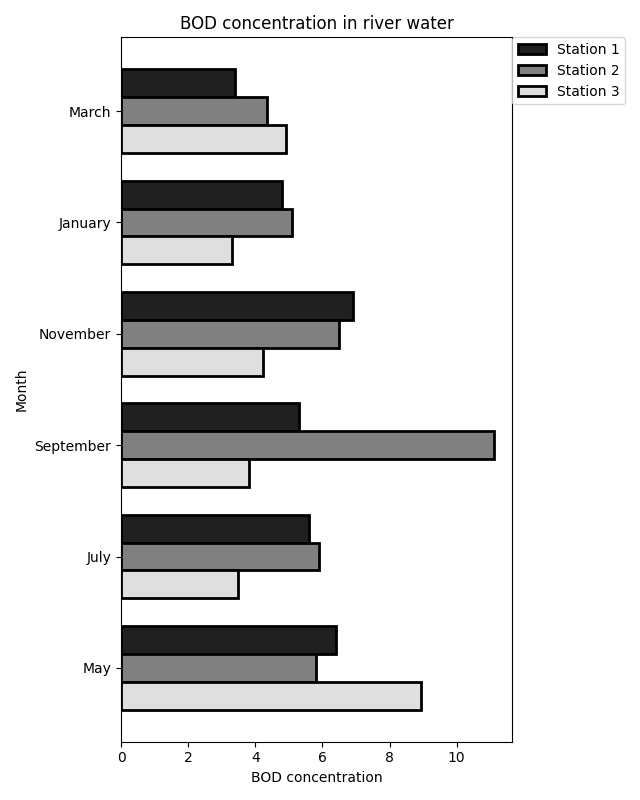canvas: (120, 46, 501, 723)
legend: (515, 40, 624, 101)
title: (173, 8, 462, 36)
x-axis: (115, 738, 523, 750)
x-labels: (115, 749, 475, 766)
x-title: (245, 769, 390, 787)
y-axis: (113, 23, 124, 751)
y-labels: (33, 71, 112, 696)
y-title: (8, 360, 31, 417)
